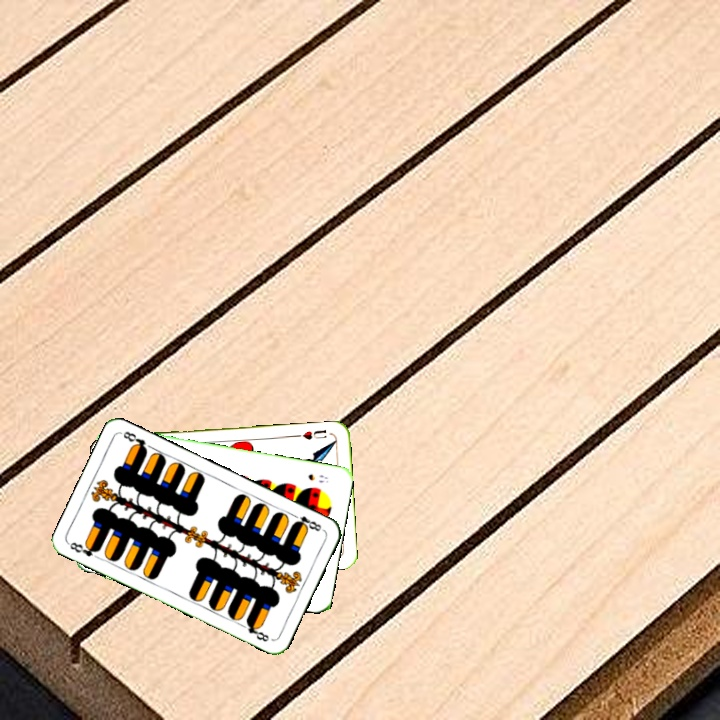E8: (288, 510, 324, 534), (65, 538, 103, 559)
HU: (293, 426, 329, 442)
S8: (304, 470, 331, 485)
